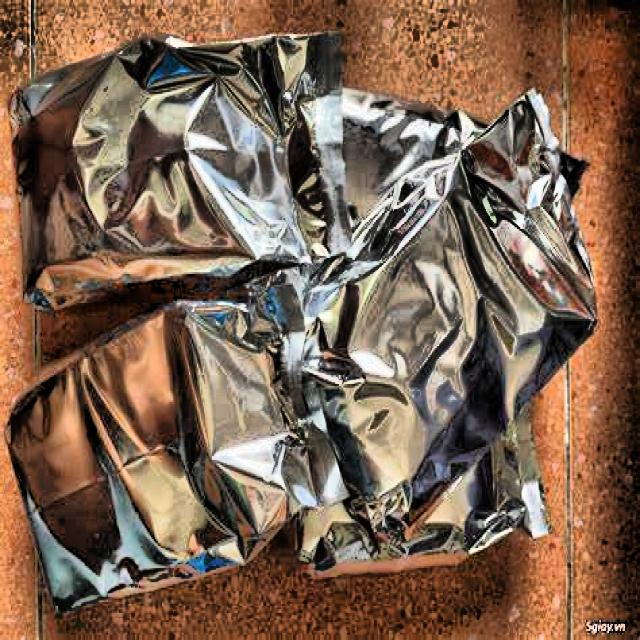Foil: (5, 24, 605, 623)
